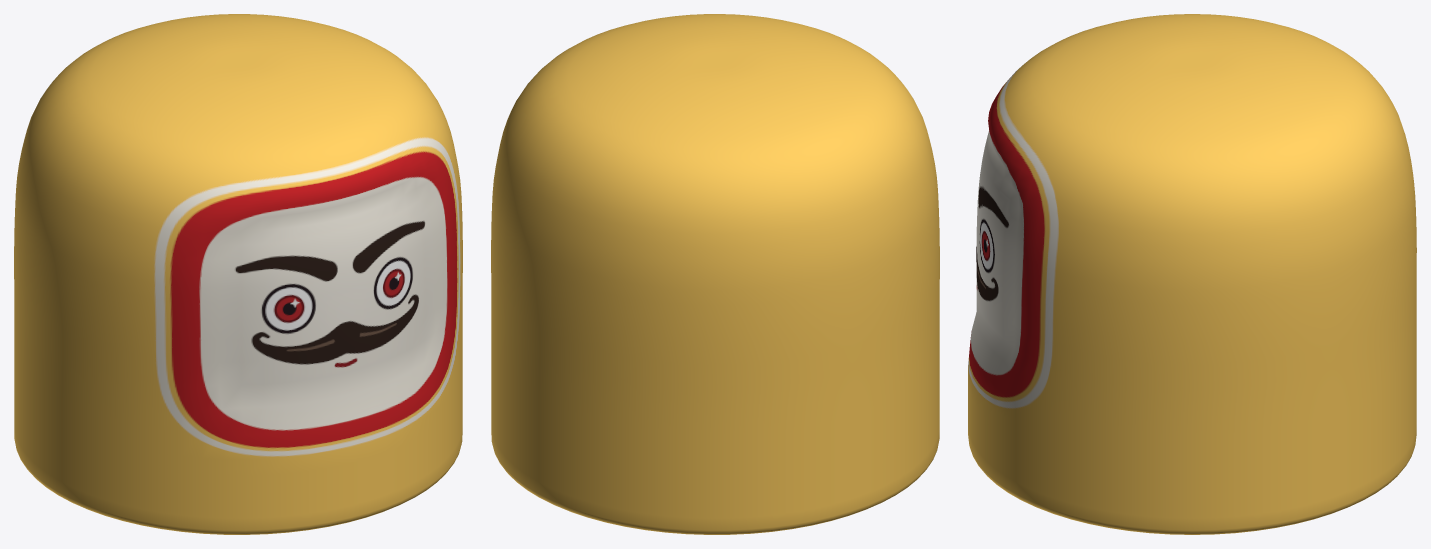
File: daruking.fbx
3 renders of one model, left to right at view 1: azimuth 30°, elevation 25°; view 2: azimuth 150°, elevation 25°; view 3: azimuth 270°, elevation 25°, orthographic.
Visible parts, largest first — view 1: daruking; view 2: daruking; view 3: daruking.
Part boxes in pixels (left/top/right/bottom): daruking: left=14, top=14, right=462, bottom=534; daruking: left=491, top=14, right=939, bottom=534; daruking: left=968, top=14, right=1416, bottom=534.
Bounding box in the file's own units: 1 × 0.9425 × 1.
1 material, 1 textured.
